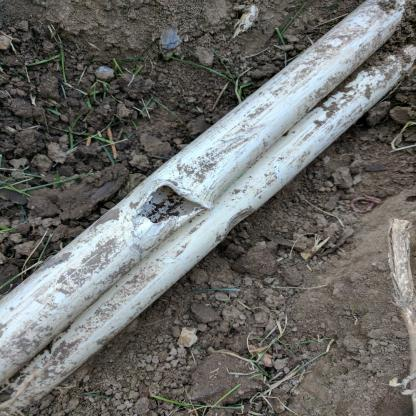PVC: (0, 1, 416, 415)
